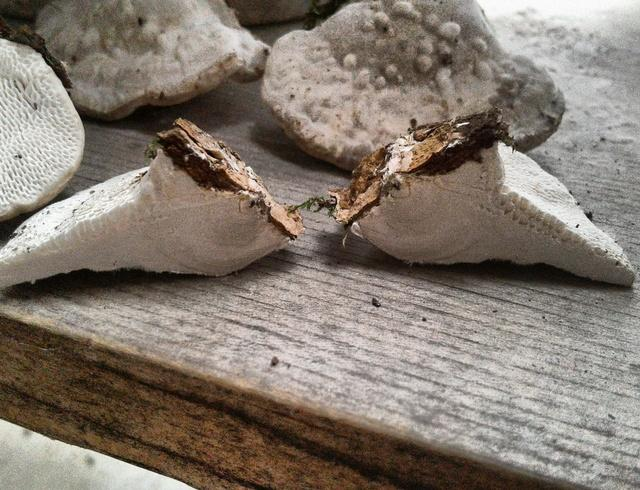poisonous_mushroom: (0, 2, 558, 283), (331, 108, 635, 288)
